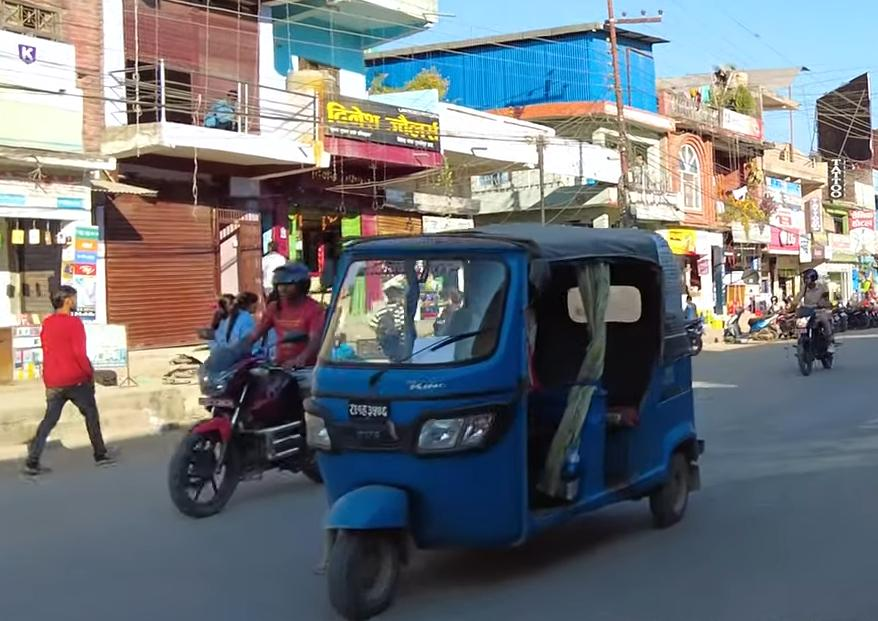auto_rickshaw: (292, 218, 712, 621)
bike: (153, 323, 316, 521), (779, 291, 841, 378)
scooter: (718, 303, 778, 346)
